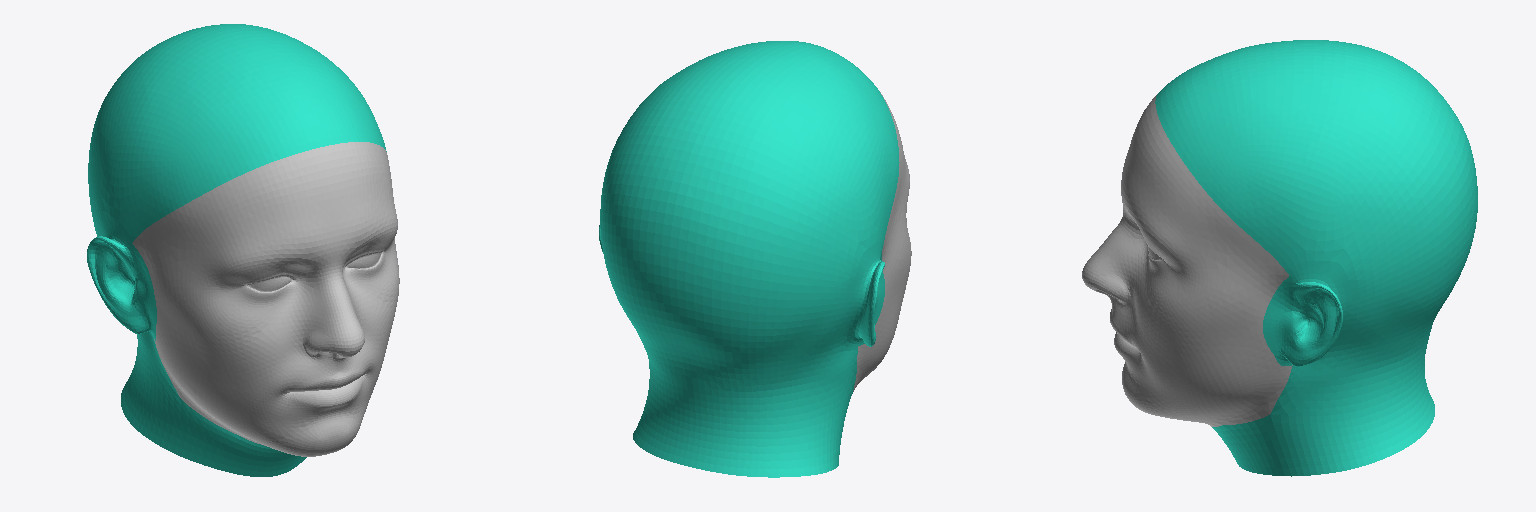
The picture shows the model from 3 angles: view 1: azimuth 30°, elevation 25°; view 2: azimuth 150°, elevation 25°; view 3: azimuth 270°, elevation 25°; orthographic projection.
Visible parts, largest first — view 1: FaceBuilderHead_FaceBuilderHead_mesh; view 2: FaceBuilderHead_FaceBuilderHead_mesh; view 3: FaceBuilderHead_FaceBuilderHead_mesh.
Part boxes in pixels (x1,y1,x2,y2): FaceBuilderHead_FaceBuilderHead_mesh: (87, 24, 399, 476); FaceBuilderHead_FaceBuilderHead_mesh: (599, 41, 911, 477); FaceBuilderHead_FaceBuilderHead_mesh: (1082, 40, 1477, 476).
Bounding box in the file's own units: 1.8 × 2.51 × 2.22.